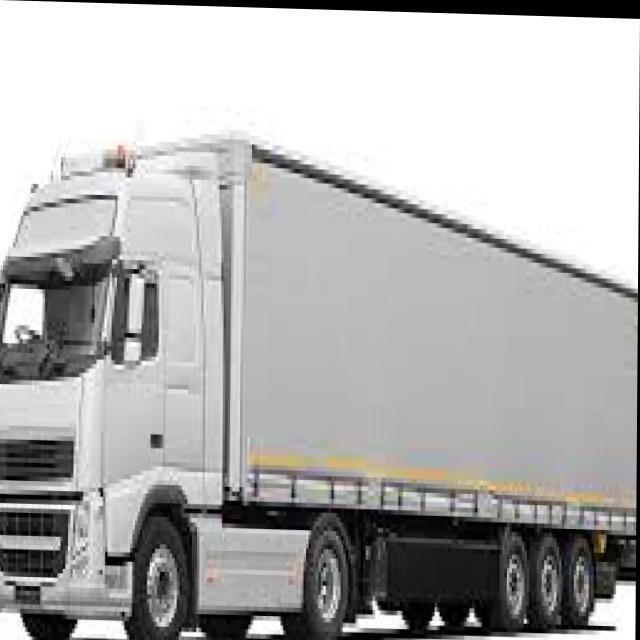covered: (0, 119, 639, 640)
